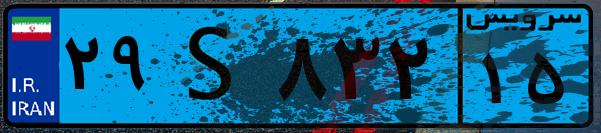1: (475, 38, 525, 113)
2: (385, 28, 445, 110), (57, 26, 110, 100)
3: (330, 28, 385, 110)
5: (525, 38, 570, 115)
8: (270, 28, 330, 110)
9: (110, 28, 158, 98)
S: (158, 12, 270, 120)
